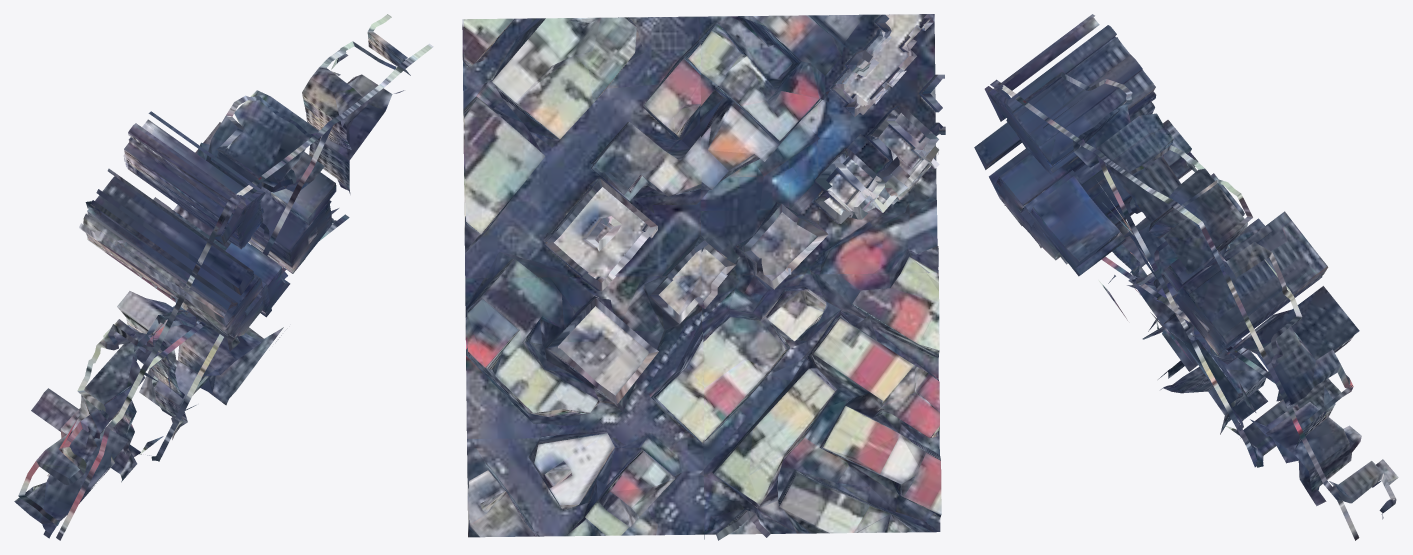
3 views of the same model, side by side, from view 1: azimuth 30°, elevation 25°; view 2: azimuth 150°, elevation 25°; view 3: azimuth 270°, elevation 25° (orthographic). The views are drawn at different scales.
Size of the model in its own units: 160 by 156 by 149.
Materials: 3 (3 with a texture image).
